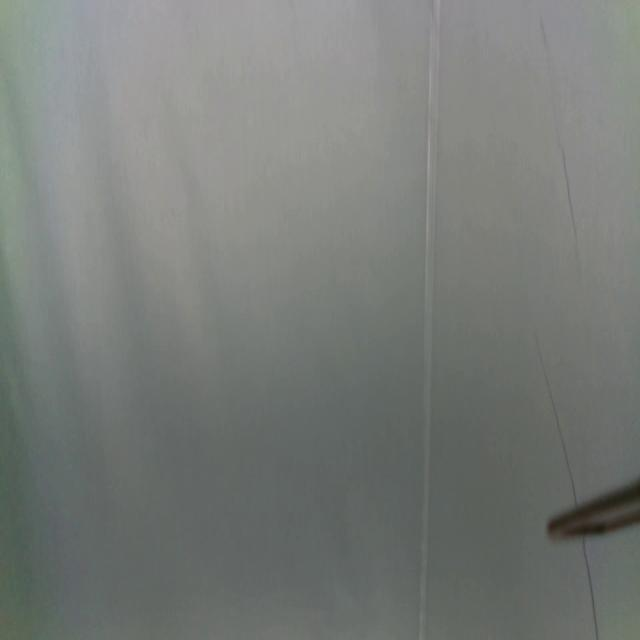crease: (418, 0, 443, 640), (540, 14, 582, 273), (532, 322, 578, 500), (583, 535, 600, 640)
